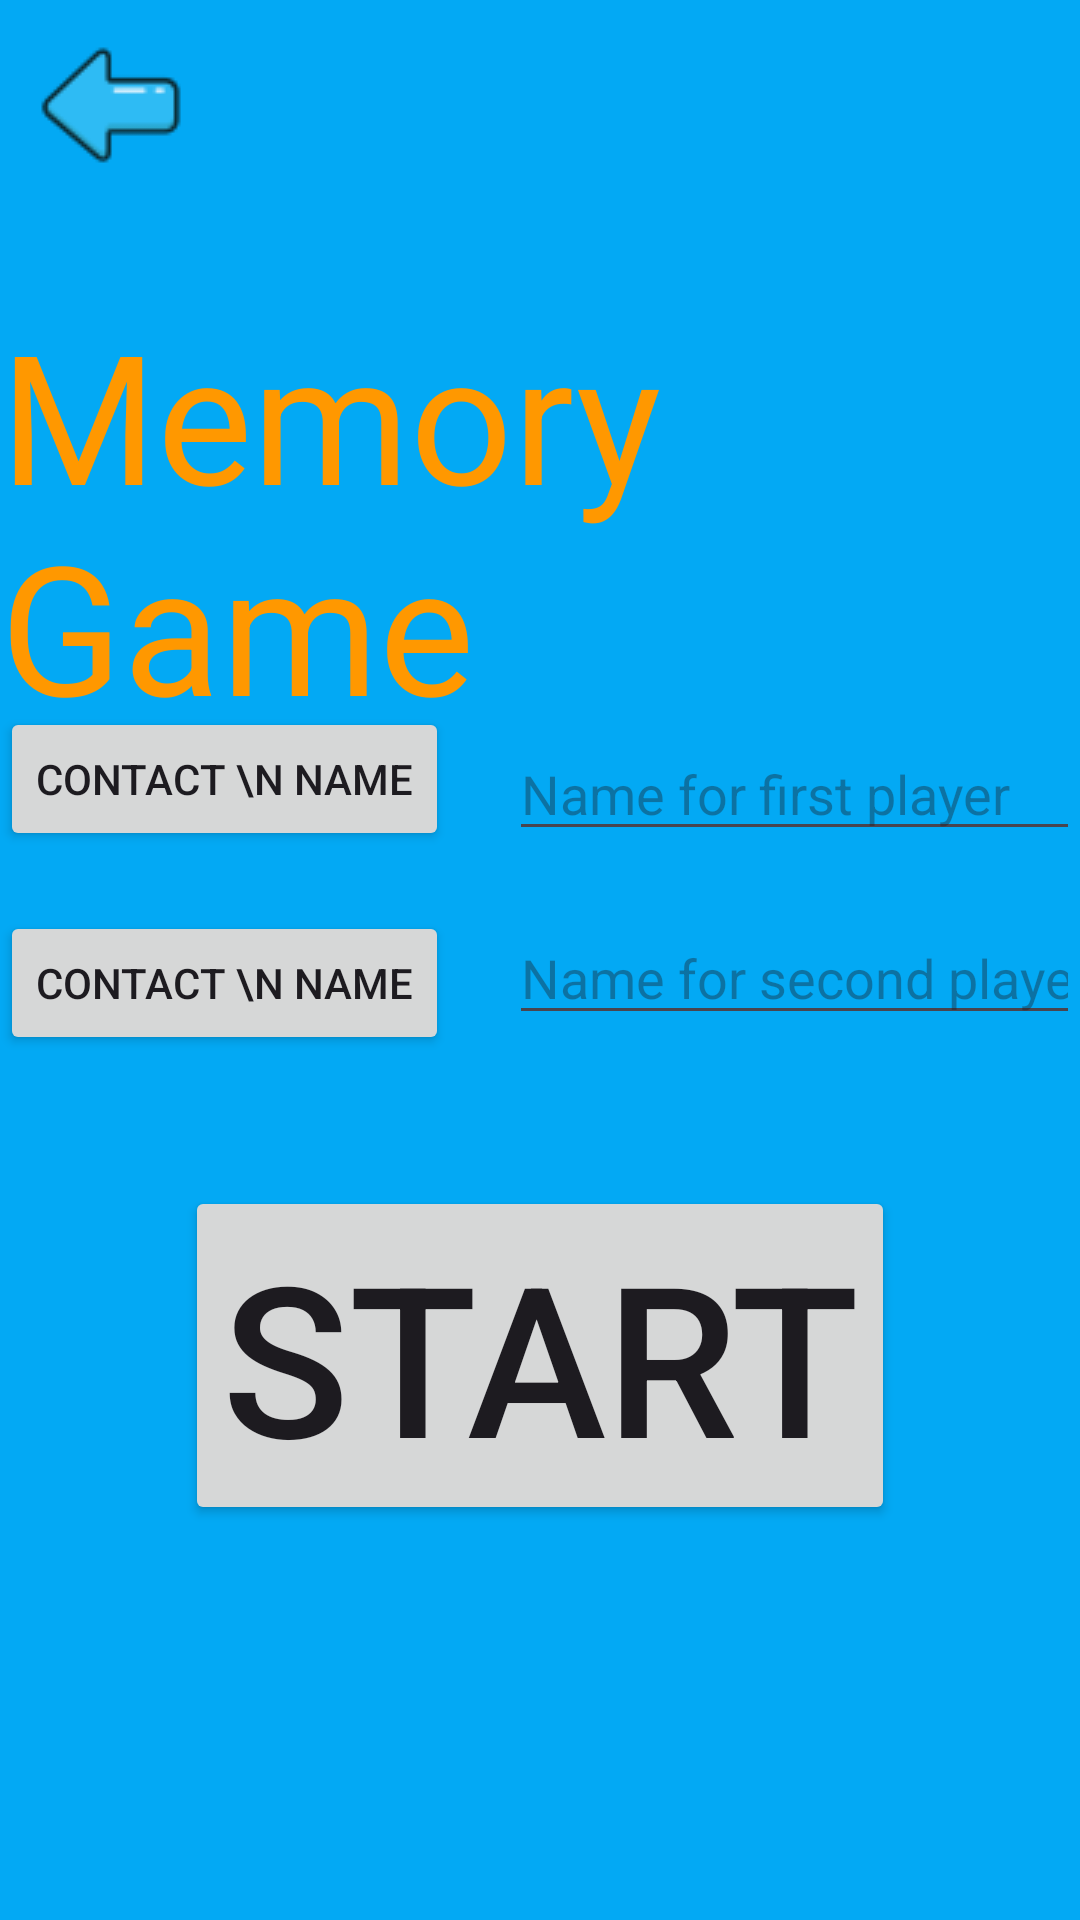

Locate icon controls on the screen. Image size 1080 x 1920, boxes as (x1, y1, x2, y2).
left arrow: (41, 47, 181, 163)
